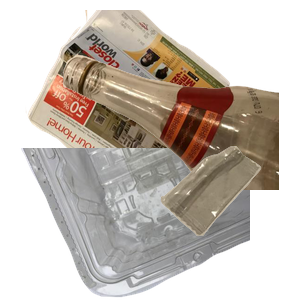glass: (60, 10, 300, 190)
paper: (23, 10, 245, 190)
plastic: (19, 148, 259, 300)
trash: (158, 144, 300, 300)
